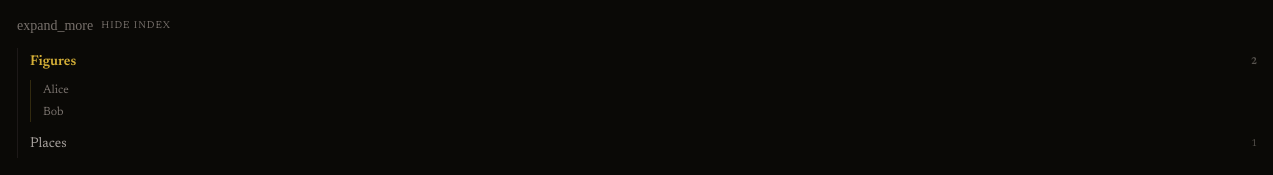
Test: SideNavSubTree › toggles expanded state when the caret button is clicked
Step 1. Click the button "Hide index" → (55, 26), box x1=17 y1=12 x2=1257 y2=40
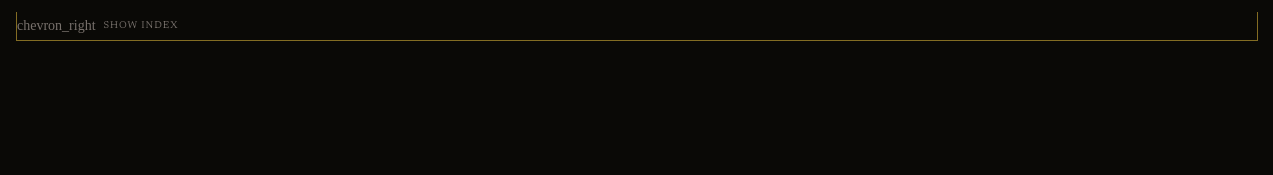
Expected: the link with test id "sidenav-category-npc" is gone
Expected: the button "Show index" is collapsed, x1=17 y1=12 x2=1257 y2=40
